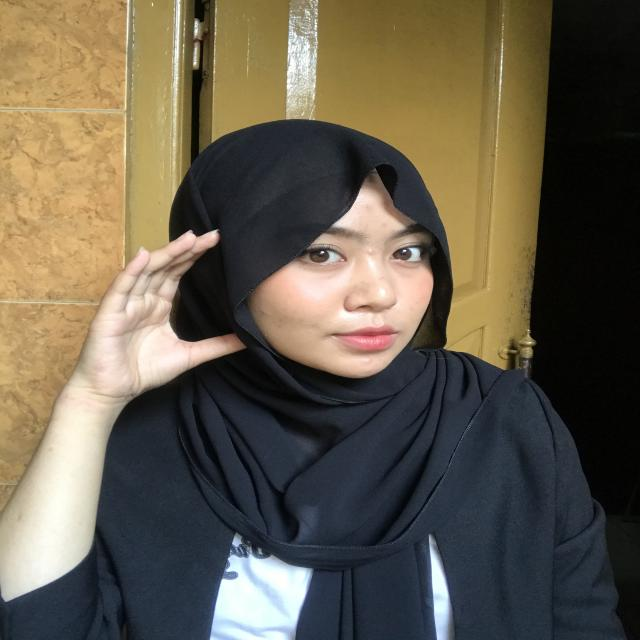mendengar: (64, 218, 262, 414)
